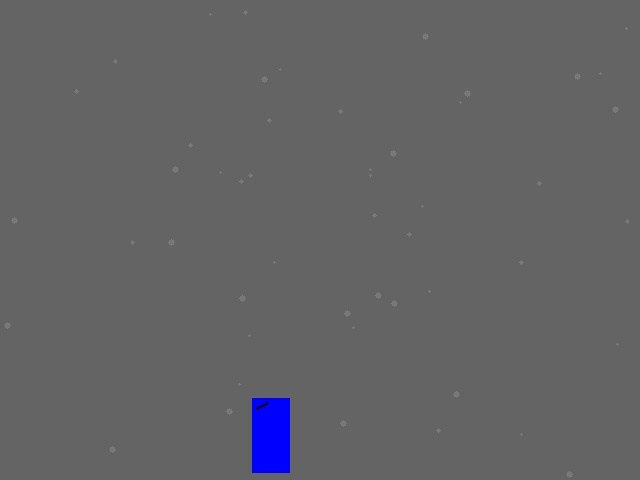motorcycle: (252, 398, 289, 472)
